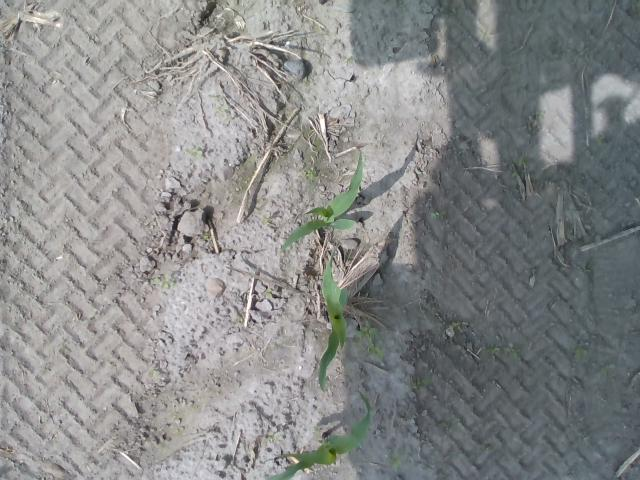Maize: (268, 390, 374, 480), (279, 146, 364, 253), (317, 248, 348, 396)
Weeds: (354, 318, 386, 360), (492, 343, 521, 359), (152, 275, 174, 289), (511, 159, 528, 177), (390, 452, 402, 472), (414, 377, 432, 386), (190, 147, 202, 159), (451, 321, 463, 332), (305, 166, 317, 176), (575, 347, 584, 359), (534, 111, 544, 120), (430, 208, 440, 217)
